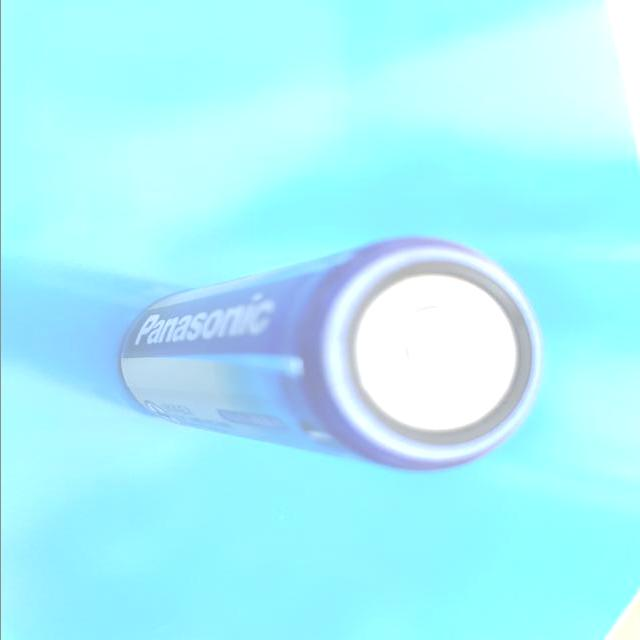AA: (111, 232, 542, 473)
